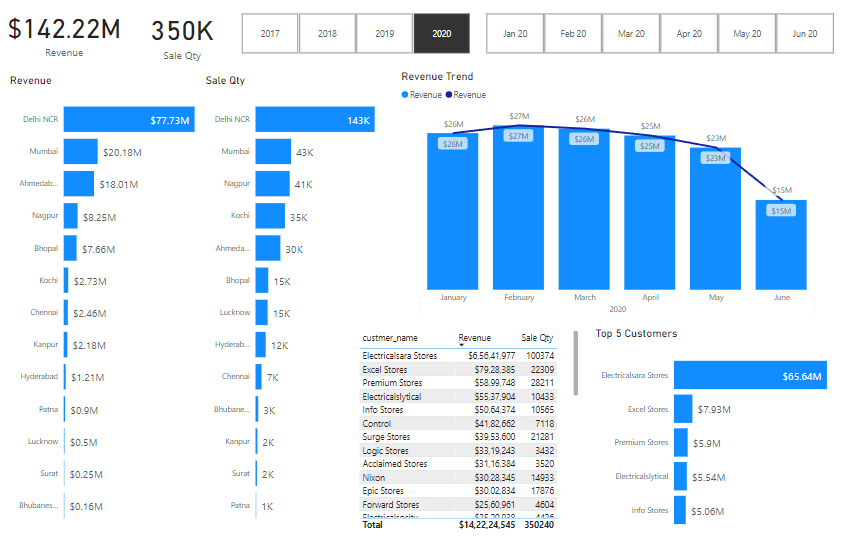

Layout of this report page (visuals, bound fields, positions):
{"tool":"powerbi","page":{"name":"Key Insights","canvas":[1350,850],"ordinal":0},"visuals":[{"type":"card","fields":{"Values":["BaseMeasures (2).Revenue"]},"box":[0,0,178.3,118.3],"z":0},{"type":"card","fields":{"Values":["BaseMeasures (2).Sales Qty"]},"box":[191.7,1.7,136.7,103.3],"z":1000},{"type":"barChart","title":"Revenue by Markets","fields":{"Category":["sales markets.markets_name"],"Y":["BaseMeasures (2).Revenue"]},"box":[0,193.1,221.9,632.1],"z":2000},{"type":"barChart","title":"Sales Qty by Markets","fields":{"Y":["BaseMeasures (2).Sales Qty"],"Category":["sales markets.markets_name"]},"box":[247.9,193.1,247.9,631.9],"z":3000},{"type":"slicer","fields":{"Values":["sales date.year"]},"box":[483.2,0,335.5,66.5],"z":4000},{"type":"slicer","fields":{"Values":["sales date.cy_date"]},"box":[818.6,0,531.7,66.5],"z":5000},{"type":"barChart","title":"Top 5 Customers","fields":{"Y":["BaseMeasures (2).Revenue"],"Category":["sales customers.custmer_name"]},"box":[495.8,519,446.2,274.3],"z":6000},{"type":"barChart","title":"Top 5 Products","fields":{"Y":["BaseMeasures (2).Revenue"],"Category":["sales products.product_code"]},"box":[950.7,519.2,399.5,282.8],"z":7000},{"type":"lineChart","title":"Revenue Trend","fields":{"Y":["BaseMeasures (2).Revenue"],"Category":["sales date.cy_date"]},"box":[513.8,104.4,809.1,338.6],"z":8000}]}

Visuals, with their boxes in screenshot pixels (x1, y1, x2, y2), scaled from the page's 1350x850 canvas onto the 853x537 screenshot:
card - BaseMeasures (2).Revenue: 0, 0, 113, 75
card - BaseMeasures (2).Sales Qty: 121, 1, 208, 66
"Revenue by Markets" barChart: 0, 122, 140, 521
"Sales Qty by Markets" barChart: 157, 122, 313, 521
slicer - sales date.year: 305, 0, 517, 42
slicer - sales date.cy_date: 517, 0, 852, 42
"Top 5 Customers" barChart: 313, 328, 595, 501
"Top 5 Products" barChart: 601, 328, 852, 507
"Revenue Trend" lineChart: 325, 66, 836, 280
